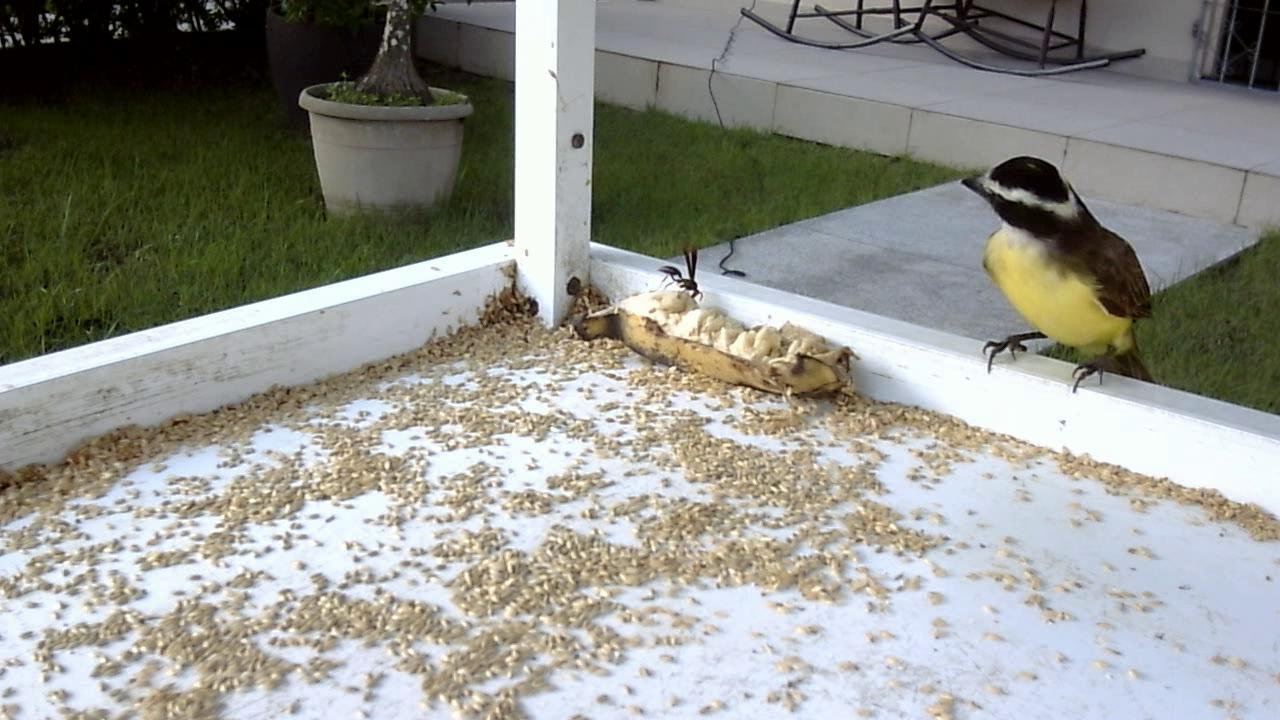bem_te_vi: (939, 148, 1172, 412)
